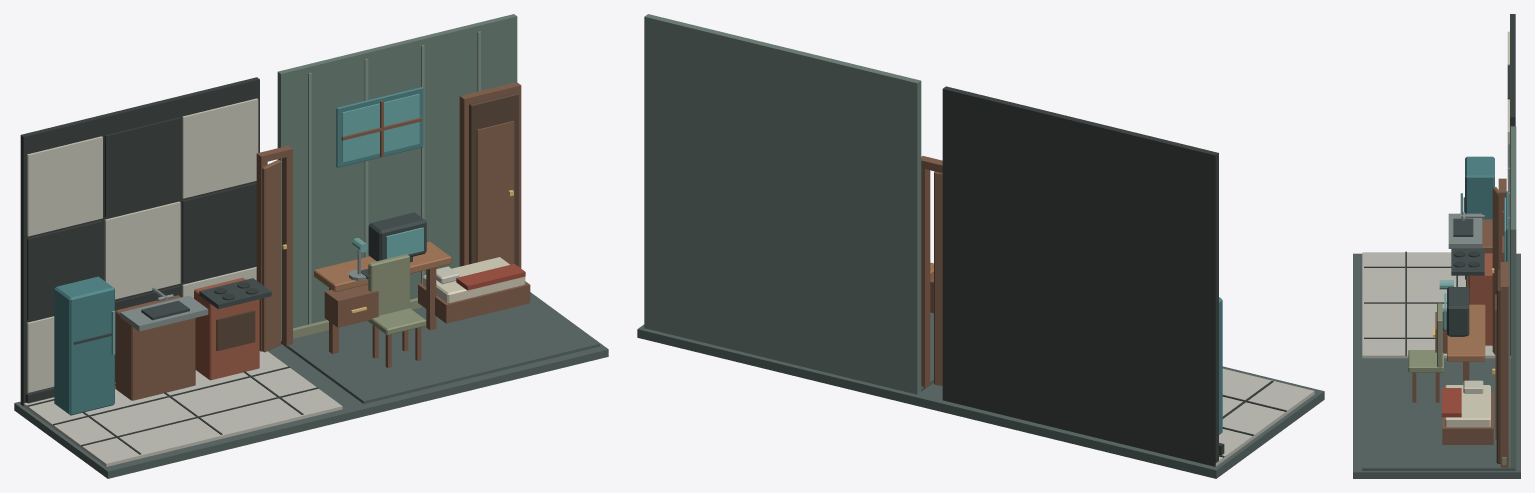
The model's file is apartment-first-location.glb.
3 renders of one model, left to right at view 1: azimuth 30°, elevation 25°; view 2: azimuth 150°, elevation 25°; view 3: azimuth 270°, elevation 25°, orthographic. The views are drawn at different scales.
Visible parts, largest first — view 1: living-wall-base, living-floor, kitchen-floor, floor-slab, kitchen-wall-base, fridge-body, wall-cell-1-2, wall-cell-2-2, wall-cell-0-2, wall-cell-2-1, wall-cell-1-1, sink-cabinet (+28 smaller); view 2: living-wall-base, kitchen-wall-base, floor-slab, kitchen-floor, interior-frame-right, interior-door-panel; view 3: living-floor, kitchen-floor, floor-slab, living-wall-base, entry-frame, fridge-body, desk-top, bed-mattress, stove-body, crt-shell, bed-frame, entry-door-slab (+17 smaller).
Part boxes in pixels (x1,y1,x2,y2): living-wall-base: (277,14,517,340); living-floor: (281,293,599,403); kitchen-floor: (21,351,342,466); floor-slab: (14,292,608,478); kitchen-wall-base: (20,77,259,405); fridge-body: (54,276,114,415); wall-cell-1-2: (104,117,180,217); wall-cell-2-2: (182,98,258,198); wall-cell-0-2: (27,136,102,236); wall-cell-2-1: (182,182,256,282); wall-cell-1-1: (104,201,180,299); sink-cabinet: (115,295,195,400); living-wall-base: (644,14,921,394); kitchen-wall-base: (942,86,1218,466); floor-slab: (637,324,1324,478); kitchen-floor: (1215,368,1314,466); interior-frame-right: (921,161,930,388); interior-door-panel: (934,171,942,385); living-floor: (1362,365,1515,470); kitchen-floor: (1362,252,1510,358); floor-slab: (1353,253,1520,478); living-wall-base: (1510,126,1516,470); entry-frame: (1500,262,1508,467); fridge-body: (1465,156,1494,279); desk-top: (1447,304,1485,361); bed-mattress: (1445,385,1490,427); stove-body: (1468,253,1492,345); crt-shell: (1447,287,1469,336); bed-frame: (1442,392,1493,444); entry-door-slab: (1496,269,1500,463).
Bounding box in the file's own units: 14.2 × 7.5 × 4.6.
